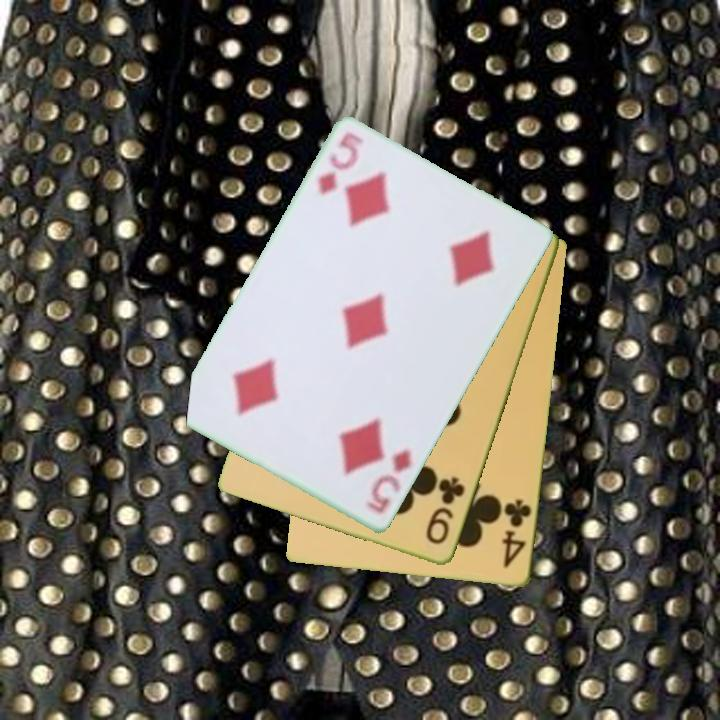4c: (499, 496, 535, 571)
5d: (362, 445, 416, 517), (314, 129, 367, 200)
9c: (422, 473, 469, 548)
